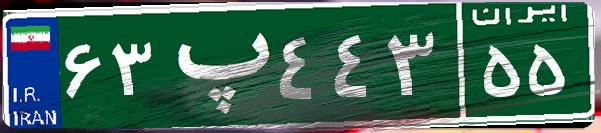3: (385, 28, 445, 110), (110, 28, 158, 105)
4: (273, 28, 330, 110), (330, 28, 385, 110)
5: (475, 38, 525, 113), (525, 38, 570, 115)
6: (57, 26, 110, 107)
پ: (158, 15, 273, 115)
